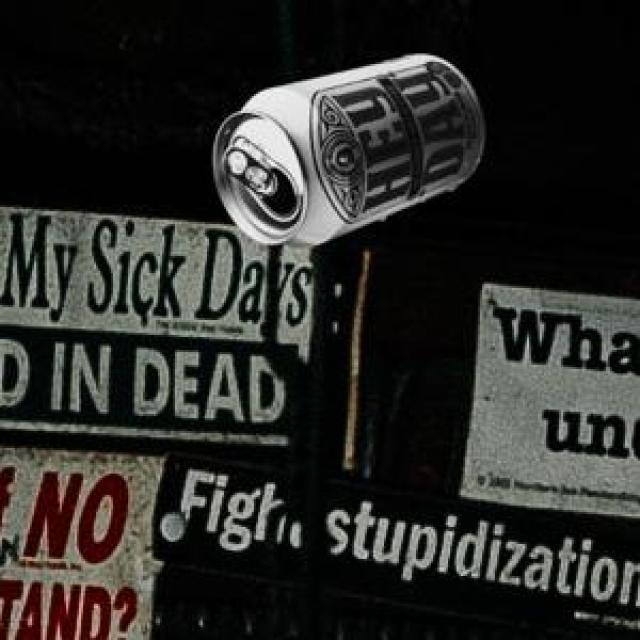Can: (210, 52, 481, 244)
